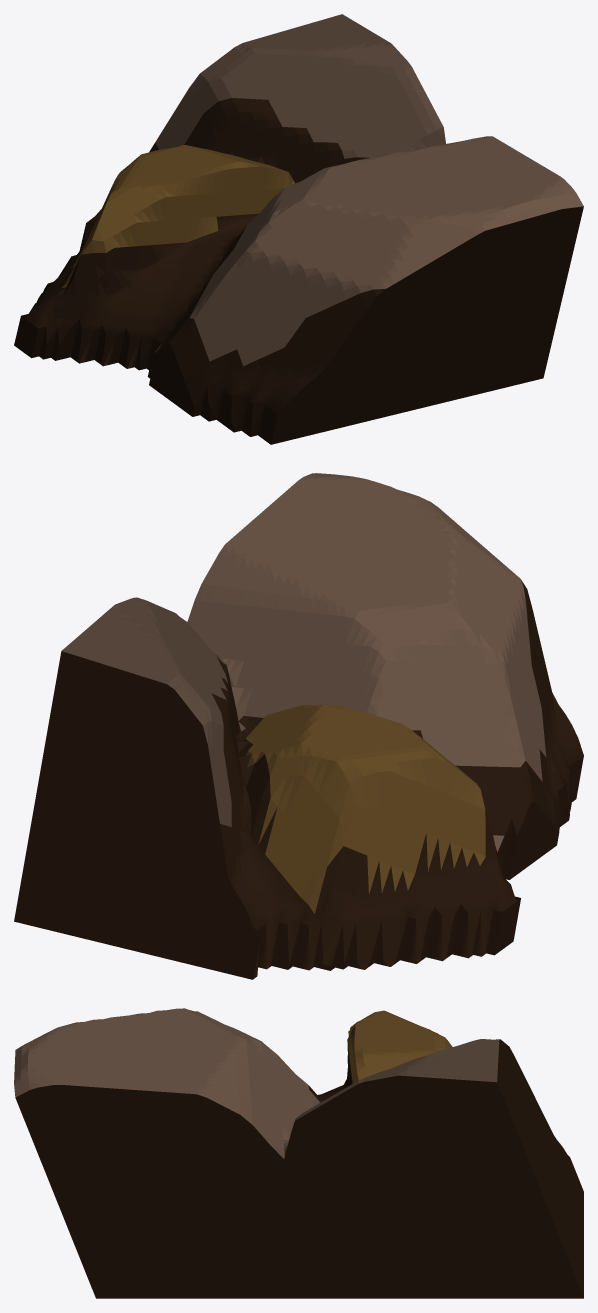
Rendered from ixm_cover_191.glb.
The picture shows the model from 3 angles, top to bottom: view 1: azimuth 30°, elevation 25°; view 2: azimuth 150°, elevation 25°; view 3: azimuth 270°, elevation 25°; orthographic projection. The views are drawn at different scales.
Visible parts, largest first — view 1: ixm_cover_191; view 2: ixm_cover_191; view 3: ixm_cover_191.
Boxes of the visible parts, bbox=[...] form: ixm_cover_191: bbox=[14, 14, 583, 444]; ixm_cover_191: bbox=[14, 473, 583, 979]; ixm_cover_191: bbox=[14, 1008, 583, 1298].
Bounding box in the file's own units: 24 × 14.11 × 32.71.
